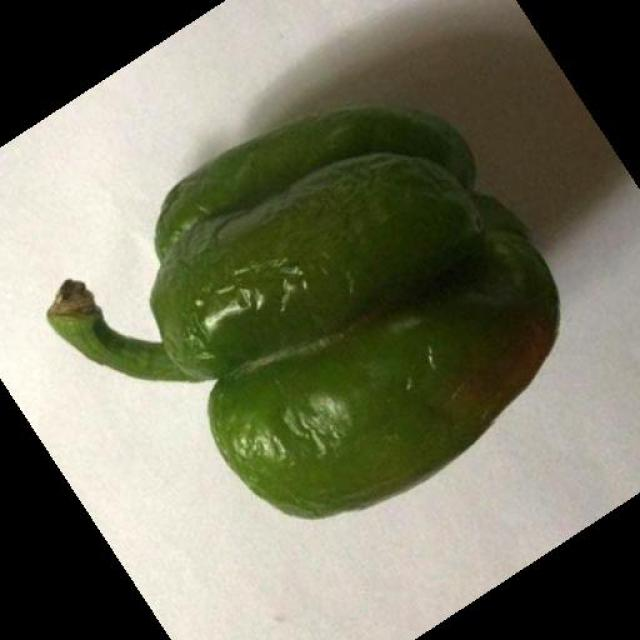Stale_Capsicum: (131, 106, 560, 500)
